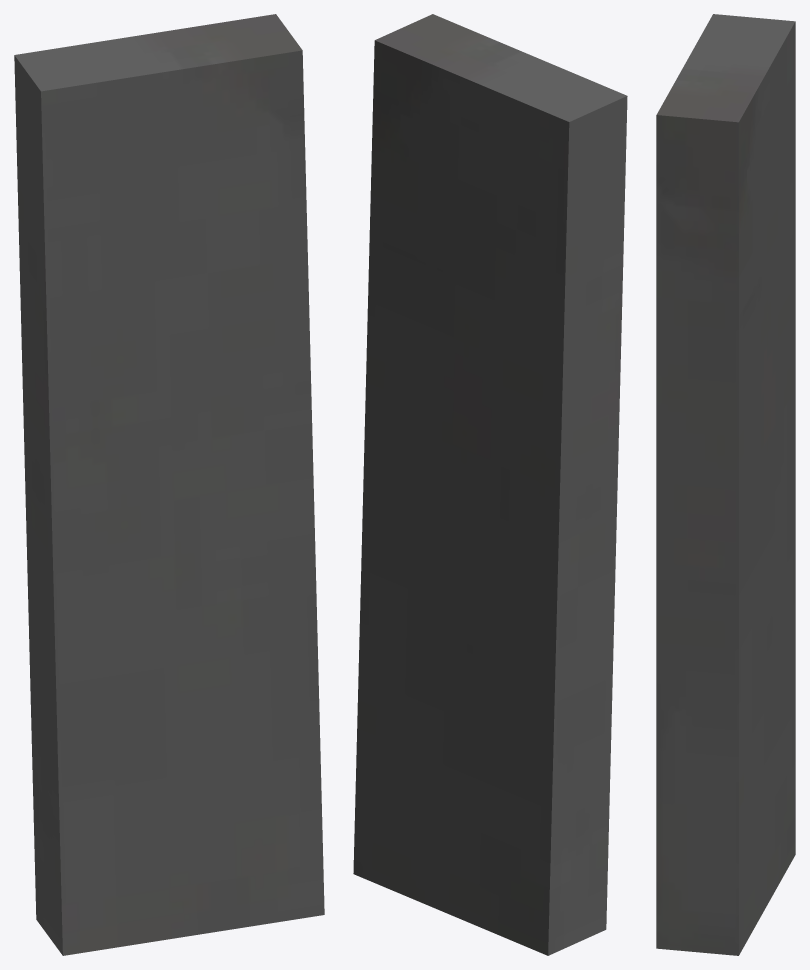
The model's file is fan_left__blade_6.glb.
3 views of the same model, side by side, from view 1: azimuth 30°, elevation 25°; view 2: azimuth 150°, elevation 25°; view 3: azimuth 270°, elevation 25° (orthographic). The views are drawn at different scales.
Visible parts, largest first — view 1: world; view 2: world; view 3: world.
Boxes of the visible parts, x1,y1,x2,y2 form: world: (14, 14, 324, 955); world: (353, 14, 627, 955); world: (656, 14, 795, 955).
Bounding box in the file's own units: 0.00911 × 0.0282 × 0.00428.
1 material, 1 textured.
